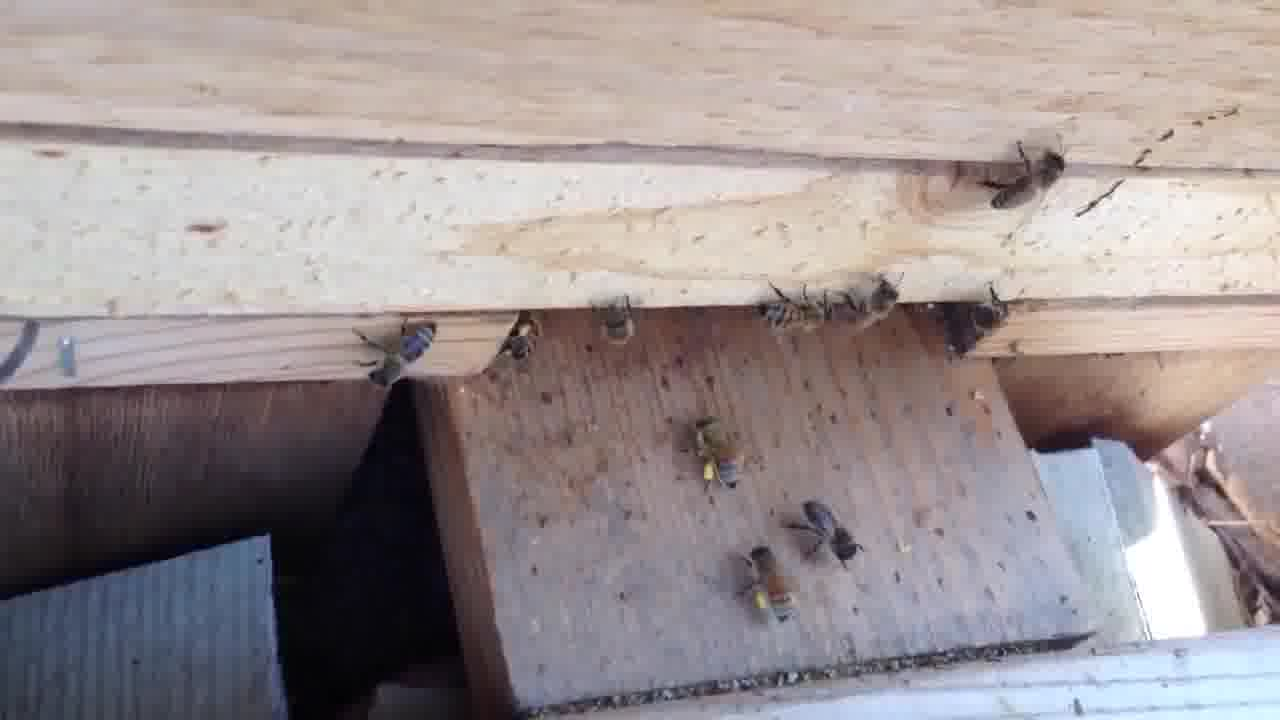pollen: (739, 544, 811, 625), (687, 409, 751, 496)
